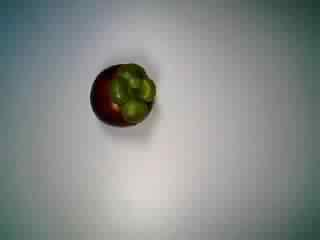mangosteen: (84, 56, 162, 132)
